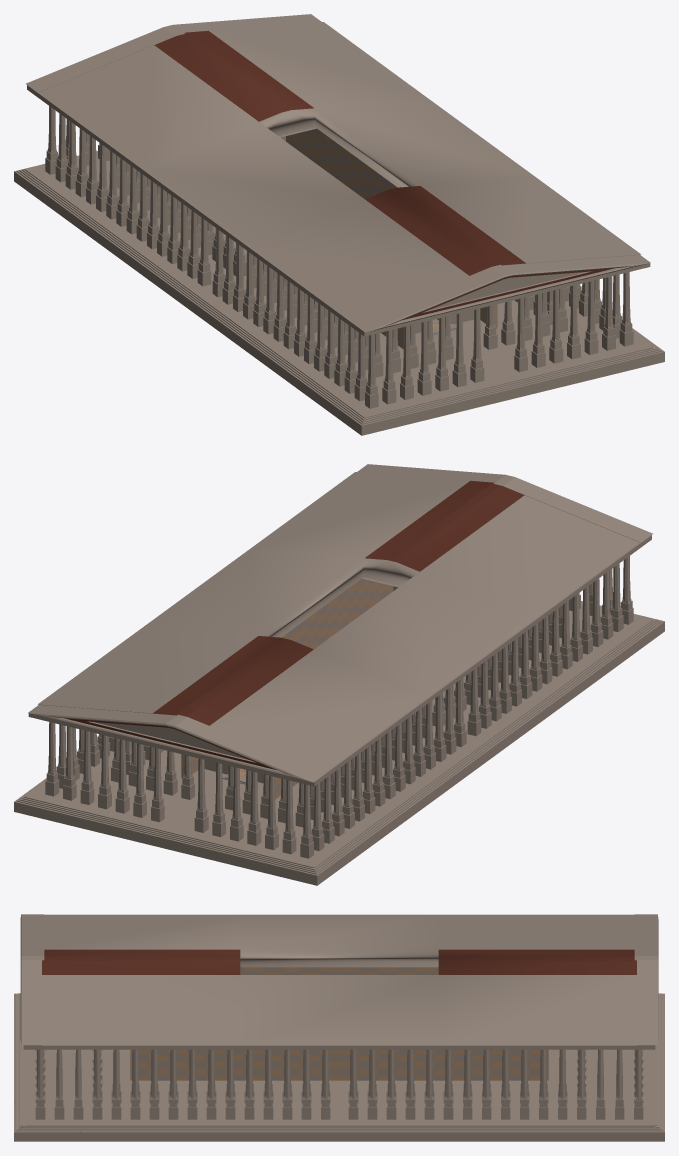
Rendered from Temple03_Solid_v02.fbx.
3 views of the same model, one above another, from view 1: azimuth 30°, elevation 25°; view 2: azimuth 150°, elevation 25°; view 3: azimuth 270°, elevation 25° (orthographic). The views are drawn at different scales.
Parts seen in each view (by area): view 1: Cube.021; view 2: Cube.021; view 3: Cube.021.
Boxes of the visible parts, x1=… form: Cube.021: x1=14, y1=14, x2=664, y2=435; Cube.021: x1=14, y1=464, x2=664, y2=885; Cube.021: x1=14, y1=914, x2=664, y2=1141.
Bounding box in the file's own units: 6900 × 2642 × 13700.
